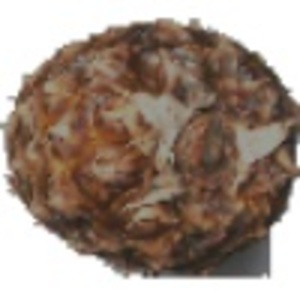abacaxi: (5, 15, 295, 273)
